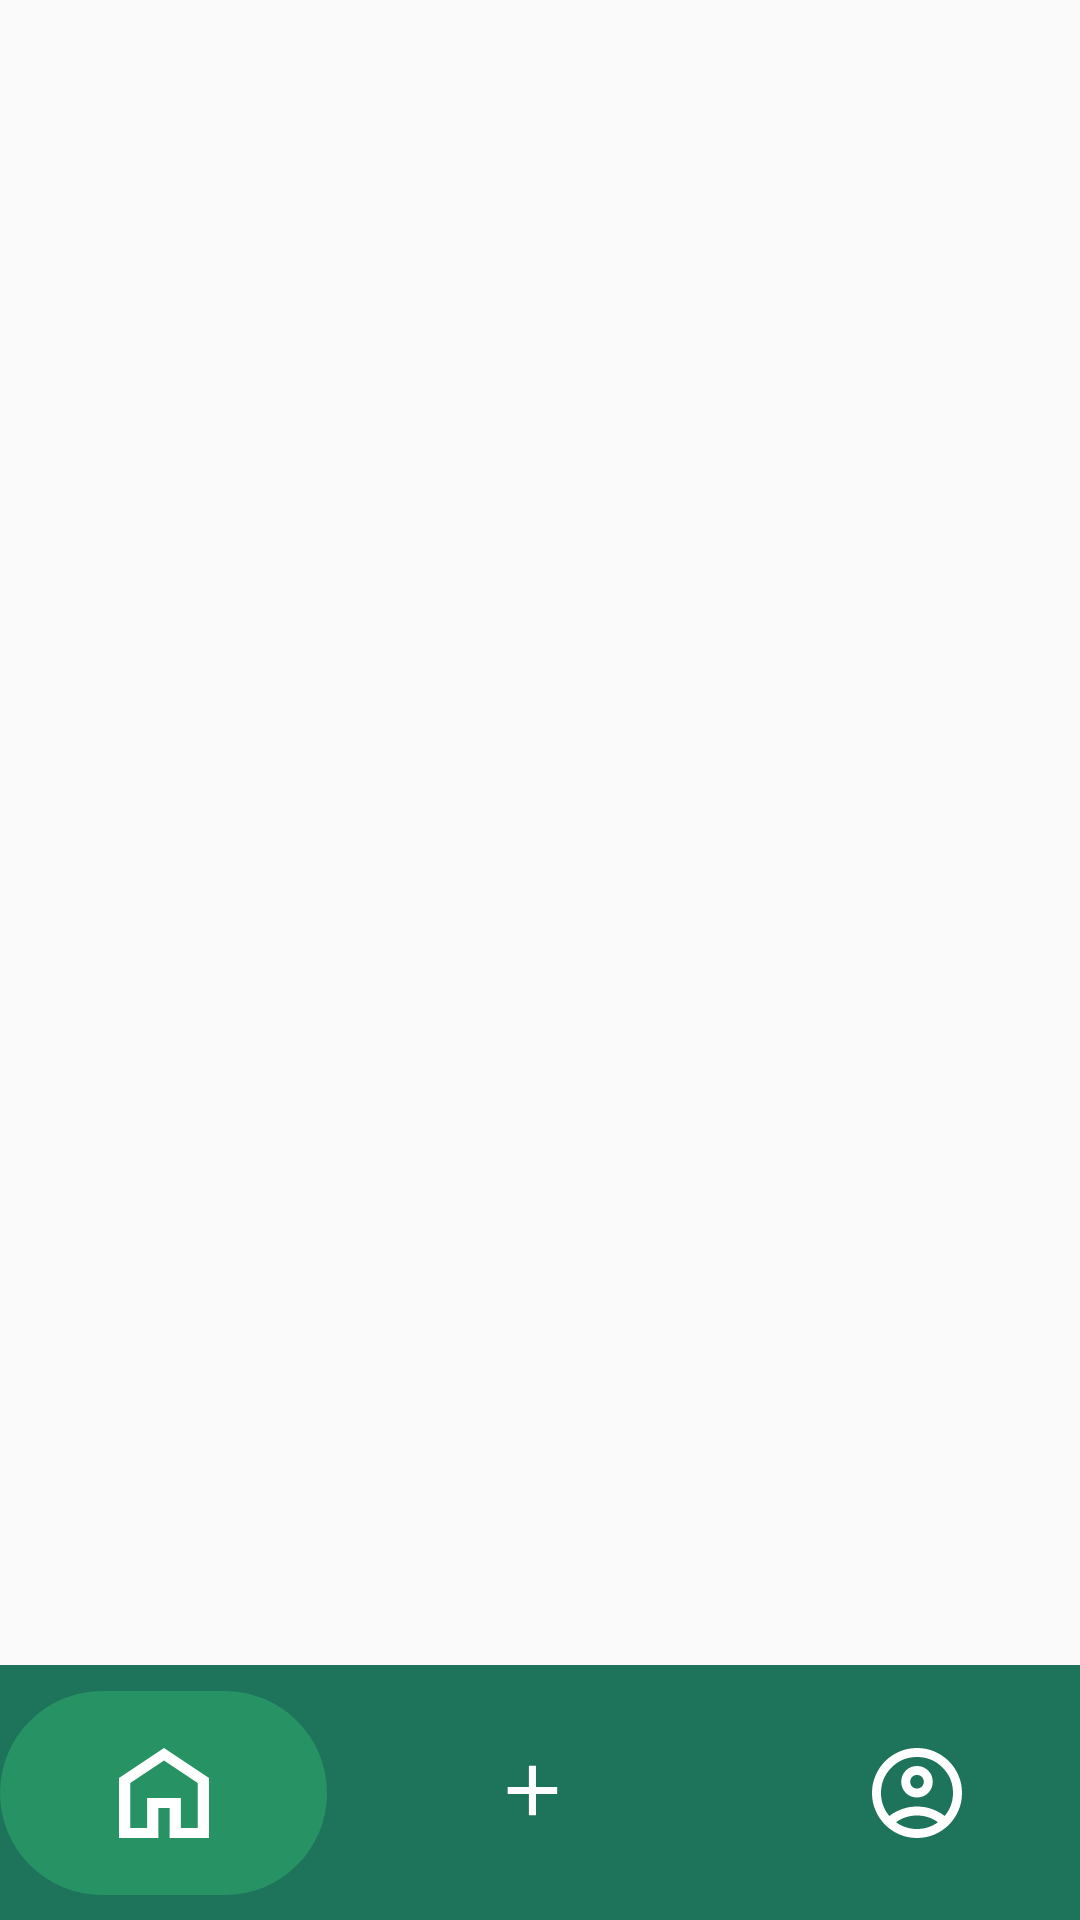

Named icons in this screenshot (1080×1920) and their centers, (x=x, y=y):
addition: (x=532, y=1790)
home: (x=164, y=1793)
person round: (x=917, y=1793)
